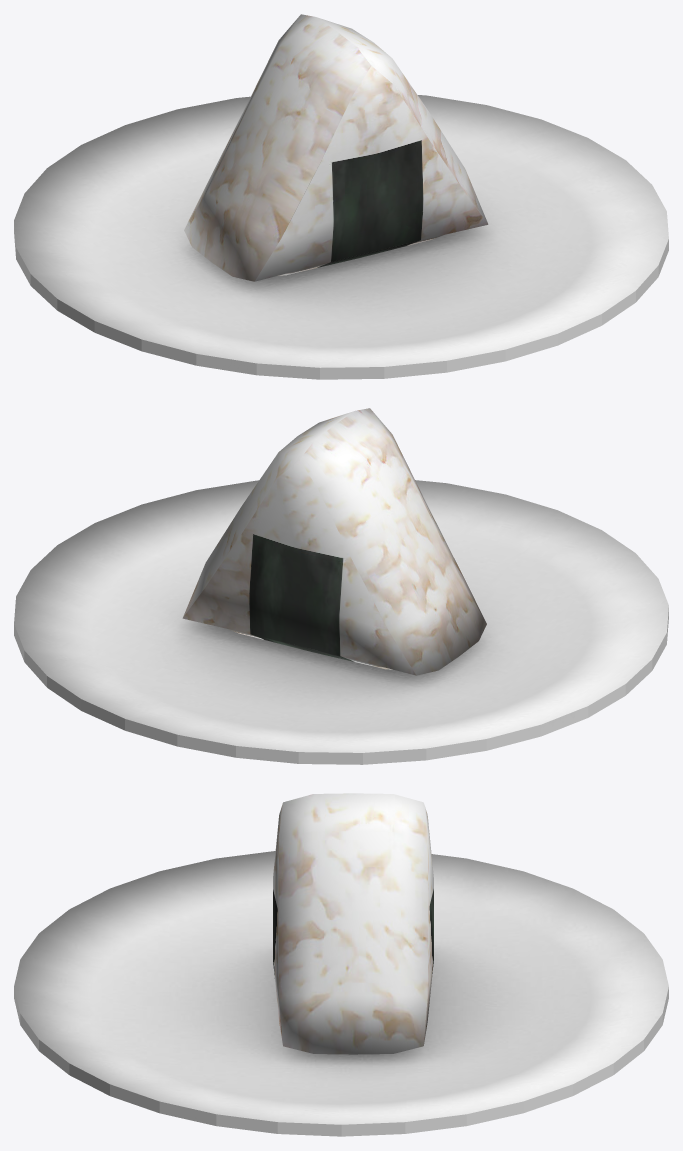
The model's file is onigiri.glb.
3 views of the same model, one above another, from view 1: azimuth 30°, elevation 25°; view 2: azimuth 150°, elevation 25°; view 3: azimuth 270°, elevation 25° (orthographic).
Visible parts, largest first — view 1: plate, nigiri; view 2: plate, nigiri; view 3: plate, nigiri.
Part boxes in pixels (x1=…): plate: x1=14, y1=95, x2=668, y2=379; nigiri: x1=184, y1=14, x2=488, y2=281; plate: x1=14, y1=480, x2=668, y2=764; nigiri: x1=182, y1=408, x2=486, y2=675; plate: x1=14, y1=851, x2=668, y2=1136; nigiri: x1=273, y1=793, x2=433, y2=1054.
Size of the model in its own units: 0.2185 by 0.0796 by 0.2185.
Materials: 2 (2 with a texture image).
